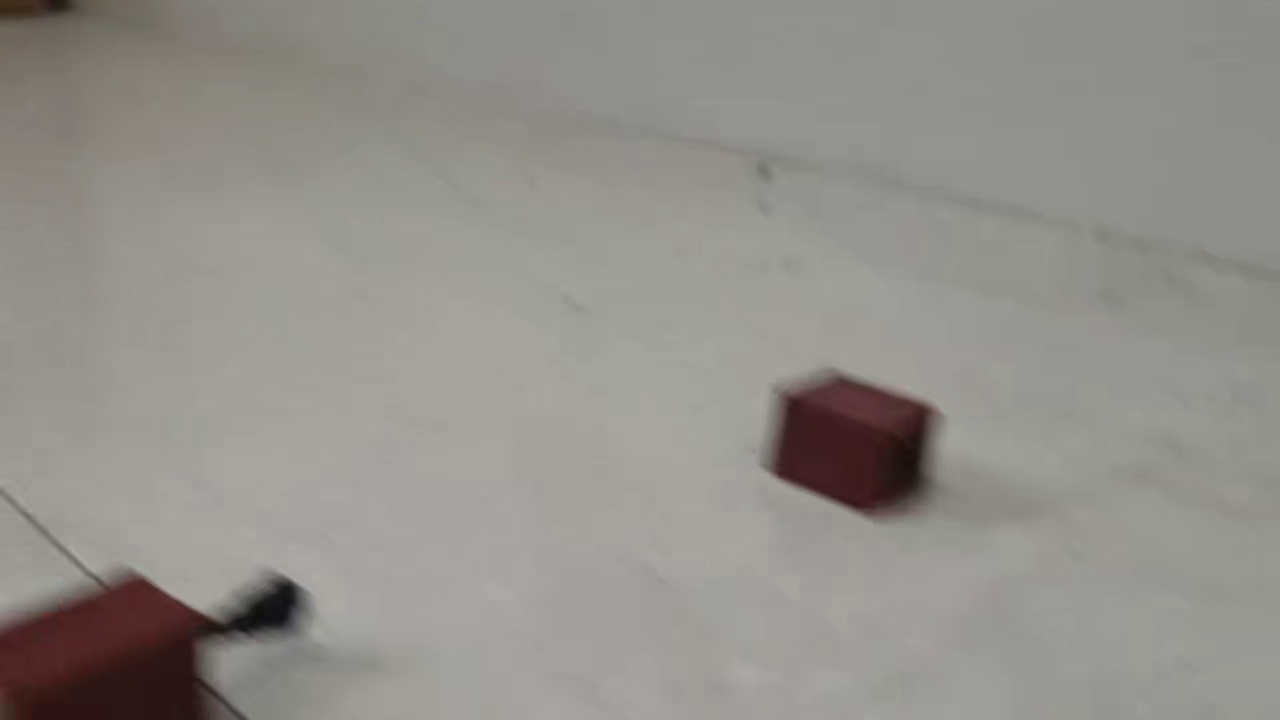box: (1, 557, 314, 719), (766, 367, 944, 515)
